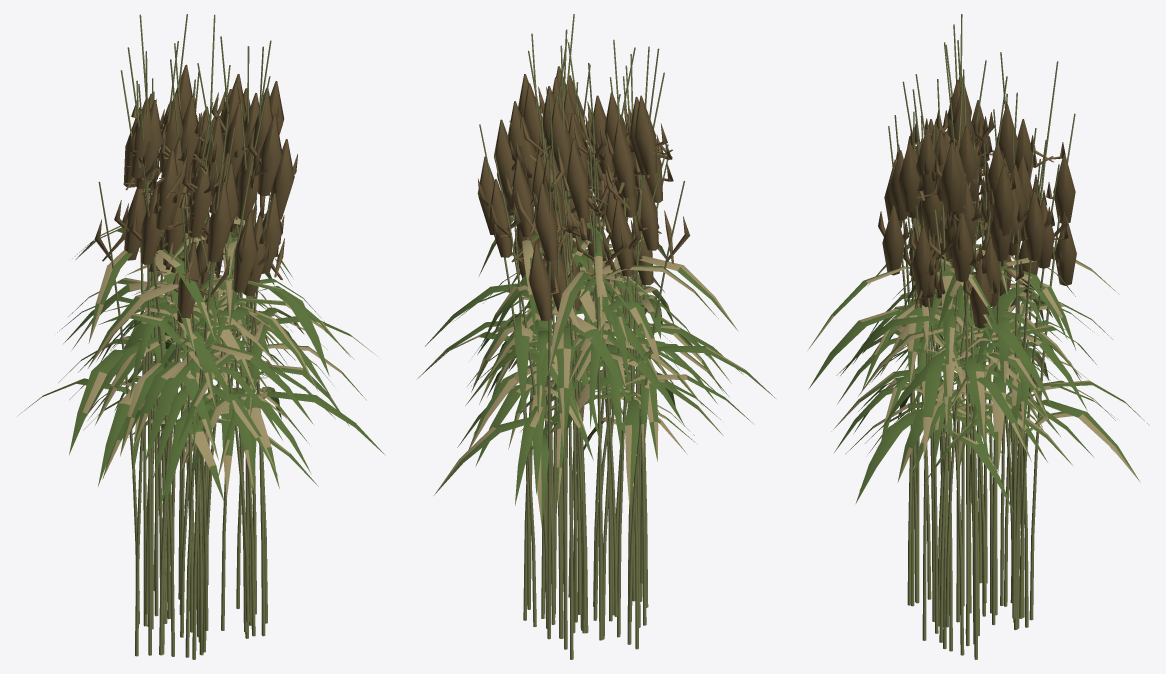
The model's file is vegetation_08.glb.
3 renders of one model, left to right at view 1: azimuth 30°, elevation 25°; view 2: azimuth 150°, elevation 25°; view 3: azimuth 270°, elevation 25°, orthographic. The views are drawn at different scales.
Parts seen in each view (by area): view 1: prototype_065, prototype_069, prototype_071, prototype_070, prototype_064, prototype_067, prototype_068, prototype_066; view 2: prototype_065, prototype_067, prototype_070, prototype_068, prototype_071, prototype_069, prototype_064, prototype_066; view 3: prototype_069, prototype_067, prototype_071, prototype_068, prototype_070, prototype_065, prototype_064, prototype_066.
Part boxes in pixels (x1=…): prototype_065: x1=69, y1=41, x2=309, y2=656; prototype_069: x1=71, y1=36, x2=385, y2=636; prototype_071: x1=88, y1=46, x2=330, y2=659; prototype_070: x1=68, y1=14, x2=334, y2=655; prototype_064: x1=63, y1=65, x2=329, y2=651; prototype_067: x1=18, y1=14, x2=354, y2=637; prototype_068: x1=58, y1=14, x2=366, y2=655; prototype_066: x1=125, y1=65, x2=376, y2=652; prototype_065: x1=434, y1=39, x2=775, y2=649; prototype_067: x1=465, y1=33, x2=743, y2=659; prototype_070: x1=481, y1=46, x2=731, y2=649; prototype_068: x1=473, y1=29, x2=697, y2=630; prototype_071: x1=417, y1=14, x2=738, y2=637; prototype_069: x1=474, y1=39, x2=723, y2=620; prototype_064: x1=453, y1=42, x2=699, y2=638; prototype_066: x1=469, y1=42, x2=685, y2=638; prototype_069: x1=831, y1=69, x2=1119, y2=659; prototype_067: x1=834, y1=42, x2=1094, y2=644; prototype_071: x1=862, y1=74, x2=1117, y2=655; prototype_068: x1=808, y1=60, x2=1149, y2=651; prototype_070: x1=845, y1=24, x2=1115, y2=628; prototype_065: x1=864, y1=14, x2=1140, y2=622; prototype_064: x1=826, y1=105, x2=1072, y2=632; prototype_066: x1=808, y1=106, x2=1081, y2=633.
Size of the model in its own units: 1.79 by 3.26 by 1.74.
